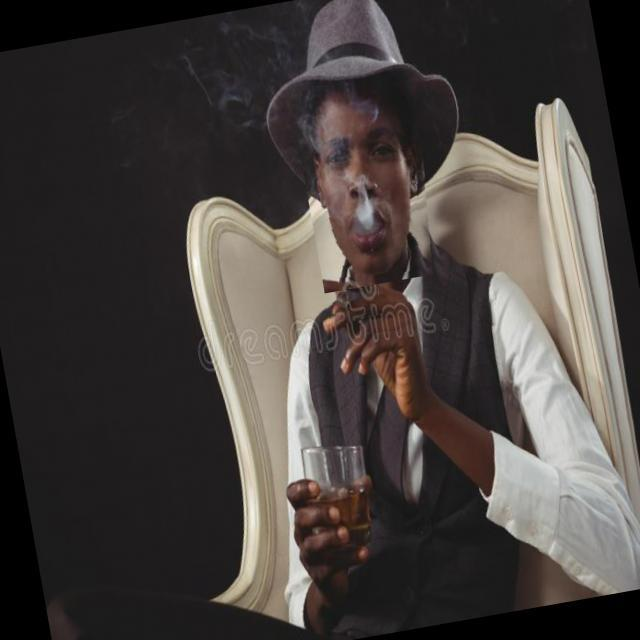cigarette: (316, 258, 384, 327)
